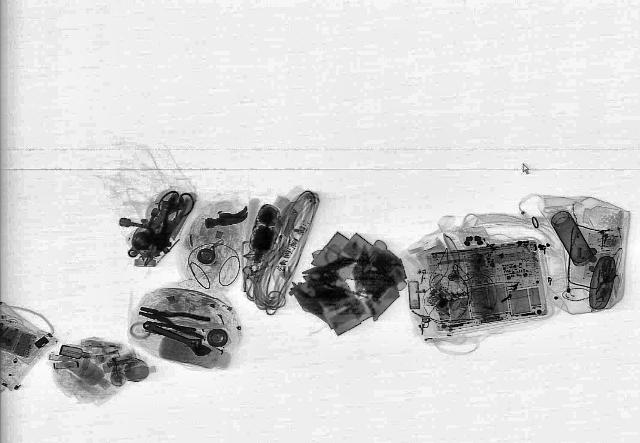Pliers: (133, 302, 215, 339)
Wrench: (138, 316, 218, 360)
